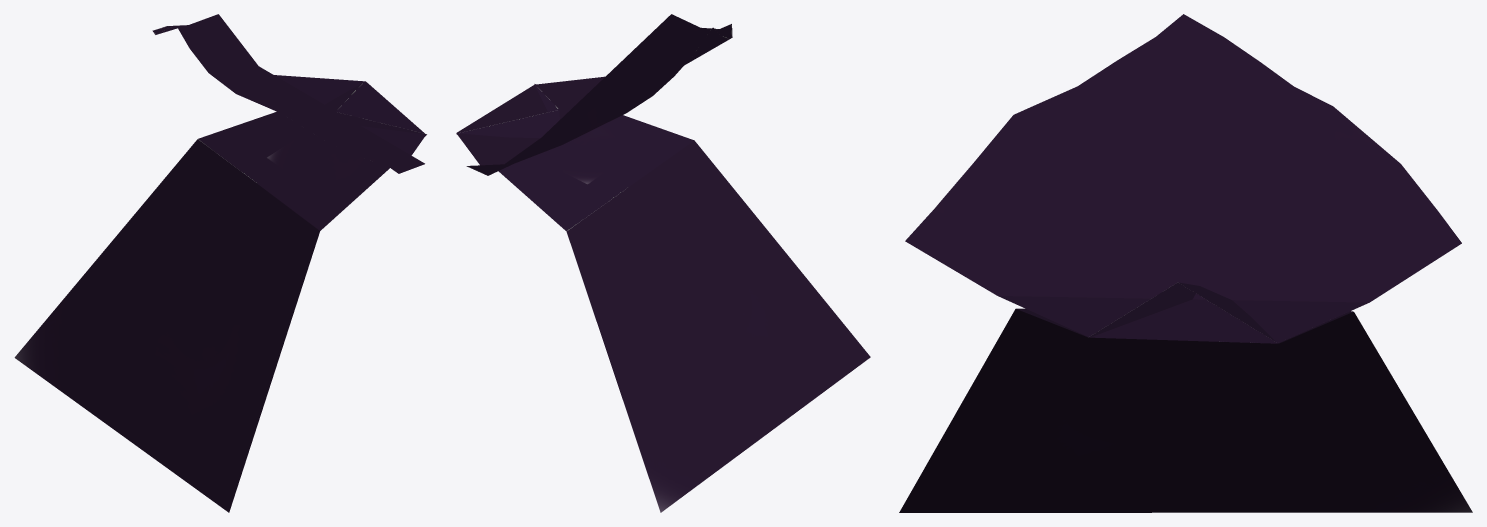
File: extraVampiro.obj
The picture shows the model from 3 angles, left to right: view 1: azimuth 30°, elevation 25°; view 2: azimuth 150°, elevation 25°; view 3: azimuth 270°, elevation 25°; orthographic projection. The views are drawn at different scales.
Parts seen in each view (by area): view 1: Capa, Cuello_capa; view 2: Capa, Cuello_capa; view 3: Cuello_capa, Capa.
Boxes of the visible parts, box(x1,y1,x2,y2) form: Capa: box(14, 82, 426, 512); Cuello_capa: box(152, 14, 425, 173); Capa: box(456, 84, 870, 512); Cuello_capa: box(456, 14, 732, 175); Cuello_capa: box(905, 14, 1461, 343); Capa: box(899, 282, 1472, 512).
Bounding box in the file's own units: 1.78 × 2.43 × 2.36.
1 material, 1 textured.
